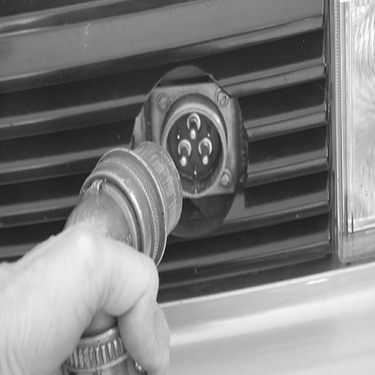car: (4, 4, 372, 373)
